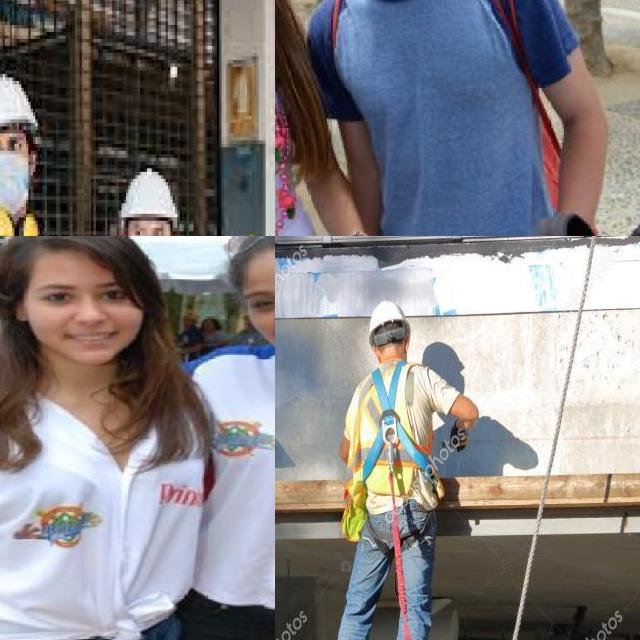Ear-protection: (19, 203, 37, 236), (0, 199, 12, 236)
Harness: (361, 363, 435, 487)
No_Glasses: (32, 276, 133, 310), (241, 271, 275, 313)
face_nomask: (34, 277, 134, 356), (242, 272, 275, 358)
glasses: (215, 236, 275, 259)
head_helmet: (114, 162, 178, 218), (0, 63, 40, 133)
head_nohelmet: (10, 236, 141, 265)
person: (0, 236, 195, 640), (303, 0, 604, 236), (181, 236, 275, 640), (275, 0, 375, 236), (0, 63, 79, 236)
